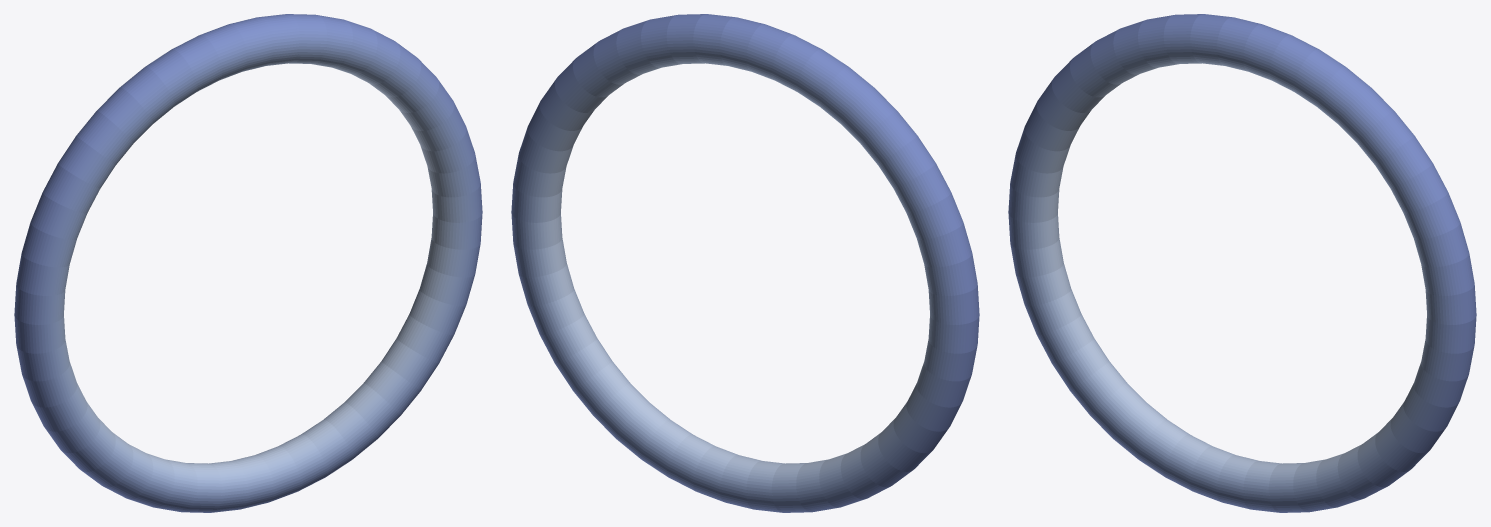
3 views of the same model, side by side, from view 1: azimuth 30°, elevation 25°; view 2: azimuth 150°, elevation 25°; view 3: azimuth 330°, elevation 25° (orthographic).
Parts seen in each view (by area): view 1: world; view 2: world; view 3: world.
Boxes of the visible parts, x1,y1,x2,y2 form: world: (14, 14, 482, 512); world: (511, 14, 979, 512); world: (1008, 14, 1476, 512).
Bounding box in the file's own units: 30.13 × 30.07 × 2.79.
